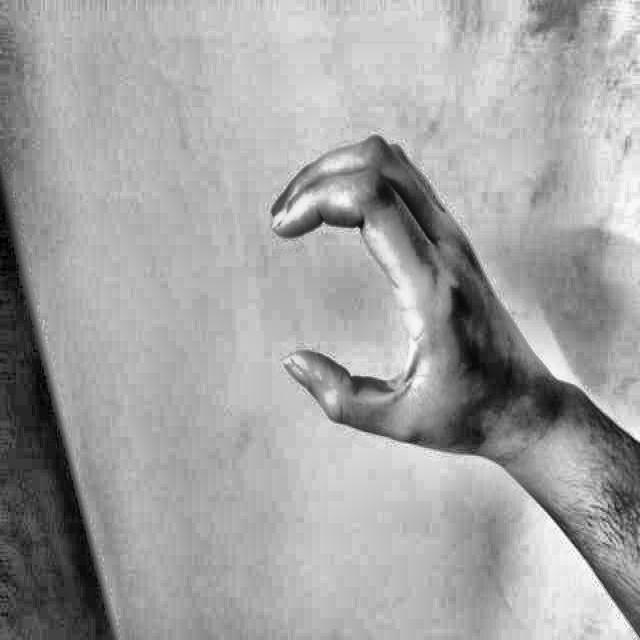A: (244, 93, 500, 484)
